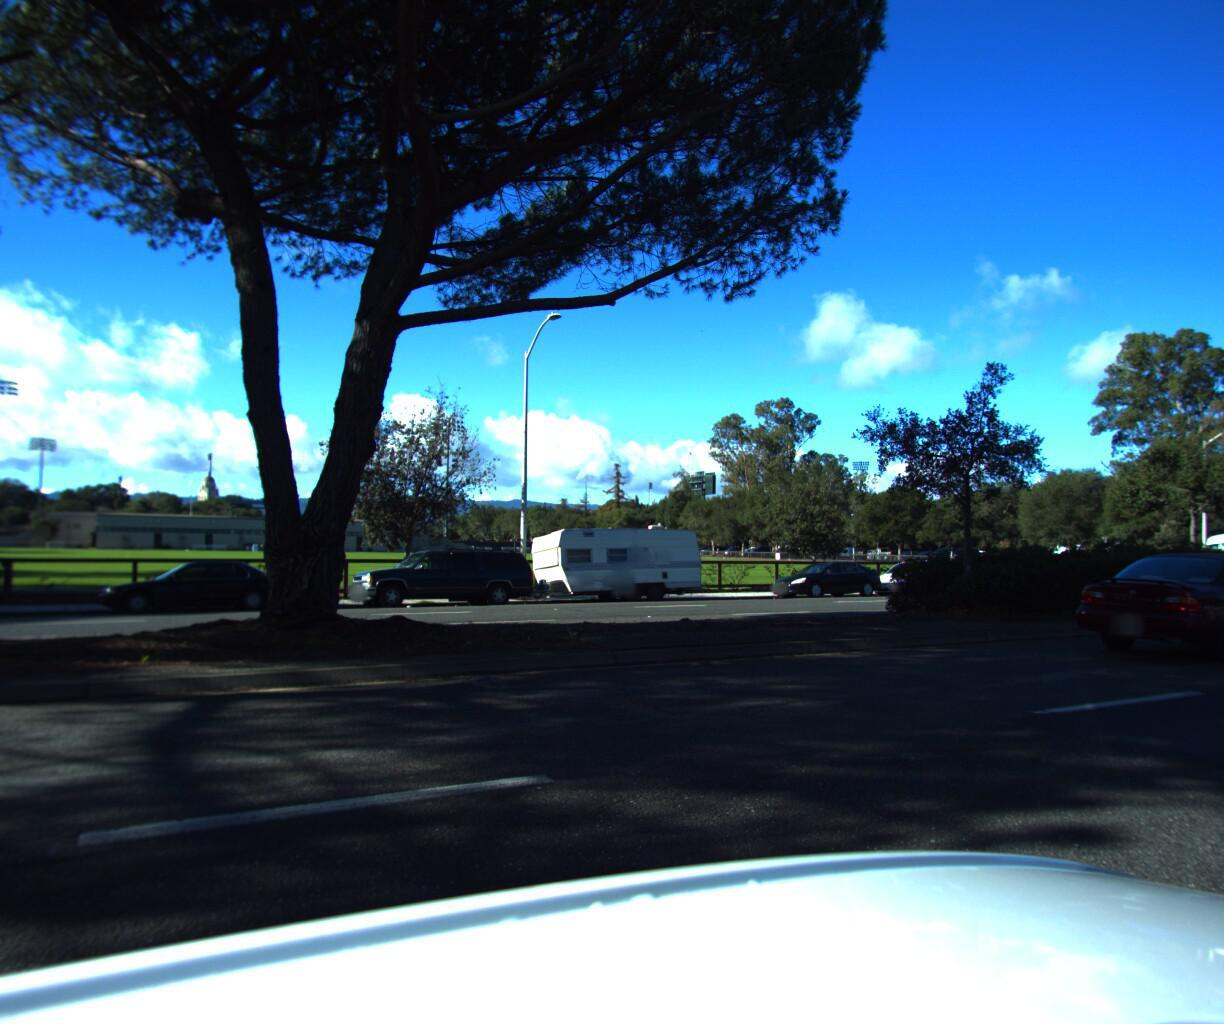car: (1056, 550, 1224, 675), (336, 543, 538, 608), (90, 556, 299, 618), (760, 557, 880, 600), (861, 551, 960, 592), (0, 525, 16, 633)
other_vehicle: (525, 518, 703, 603), (1189, 517, 1224, 583)
